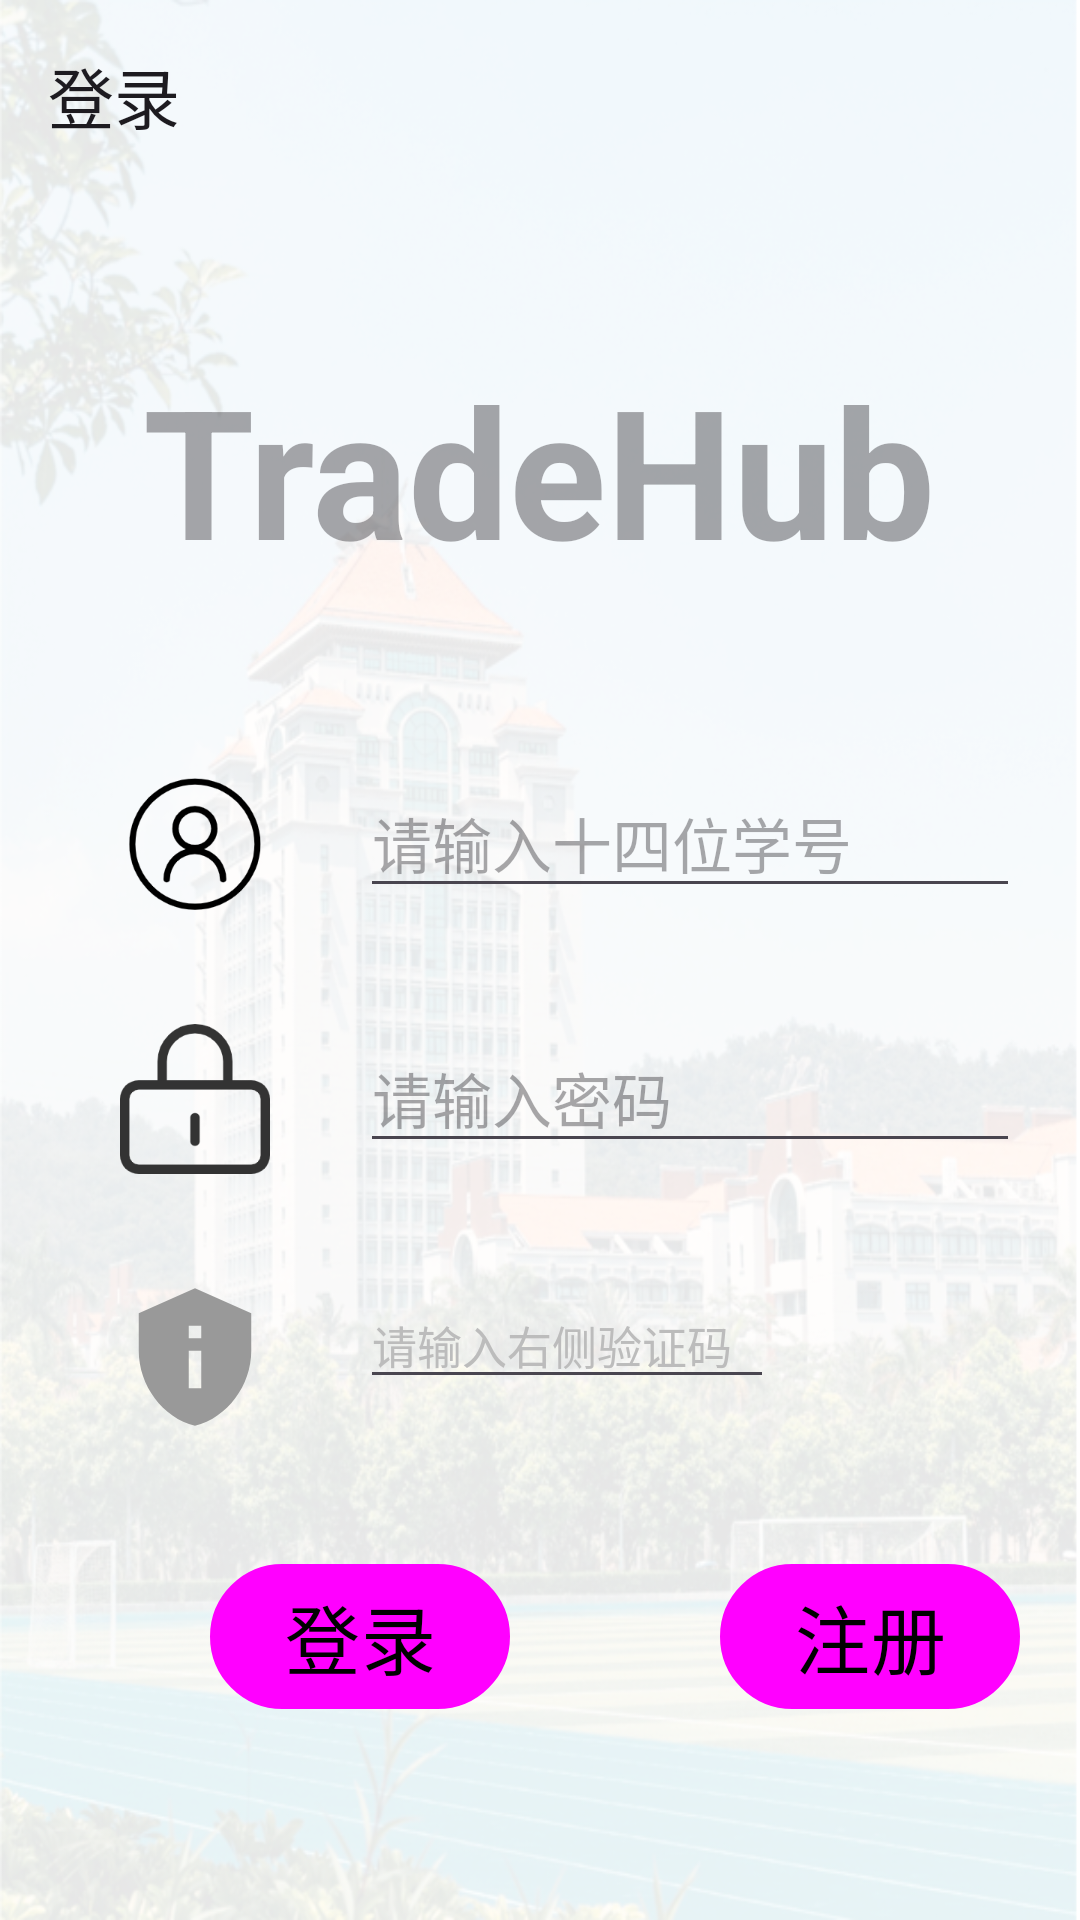

Where icons sit on this 1080px x 1920px app screen, as (x1, y1, x2, y2):
passwordpic: (120, 1024, 270, 1174)
privacy tip: (138, 1288, 252, 1426)
用户图标: (129, 778, 261, 910)
